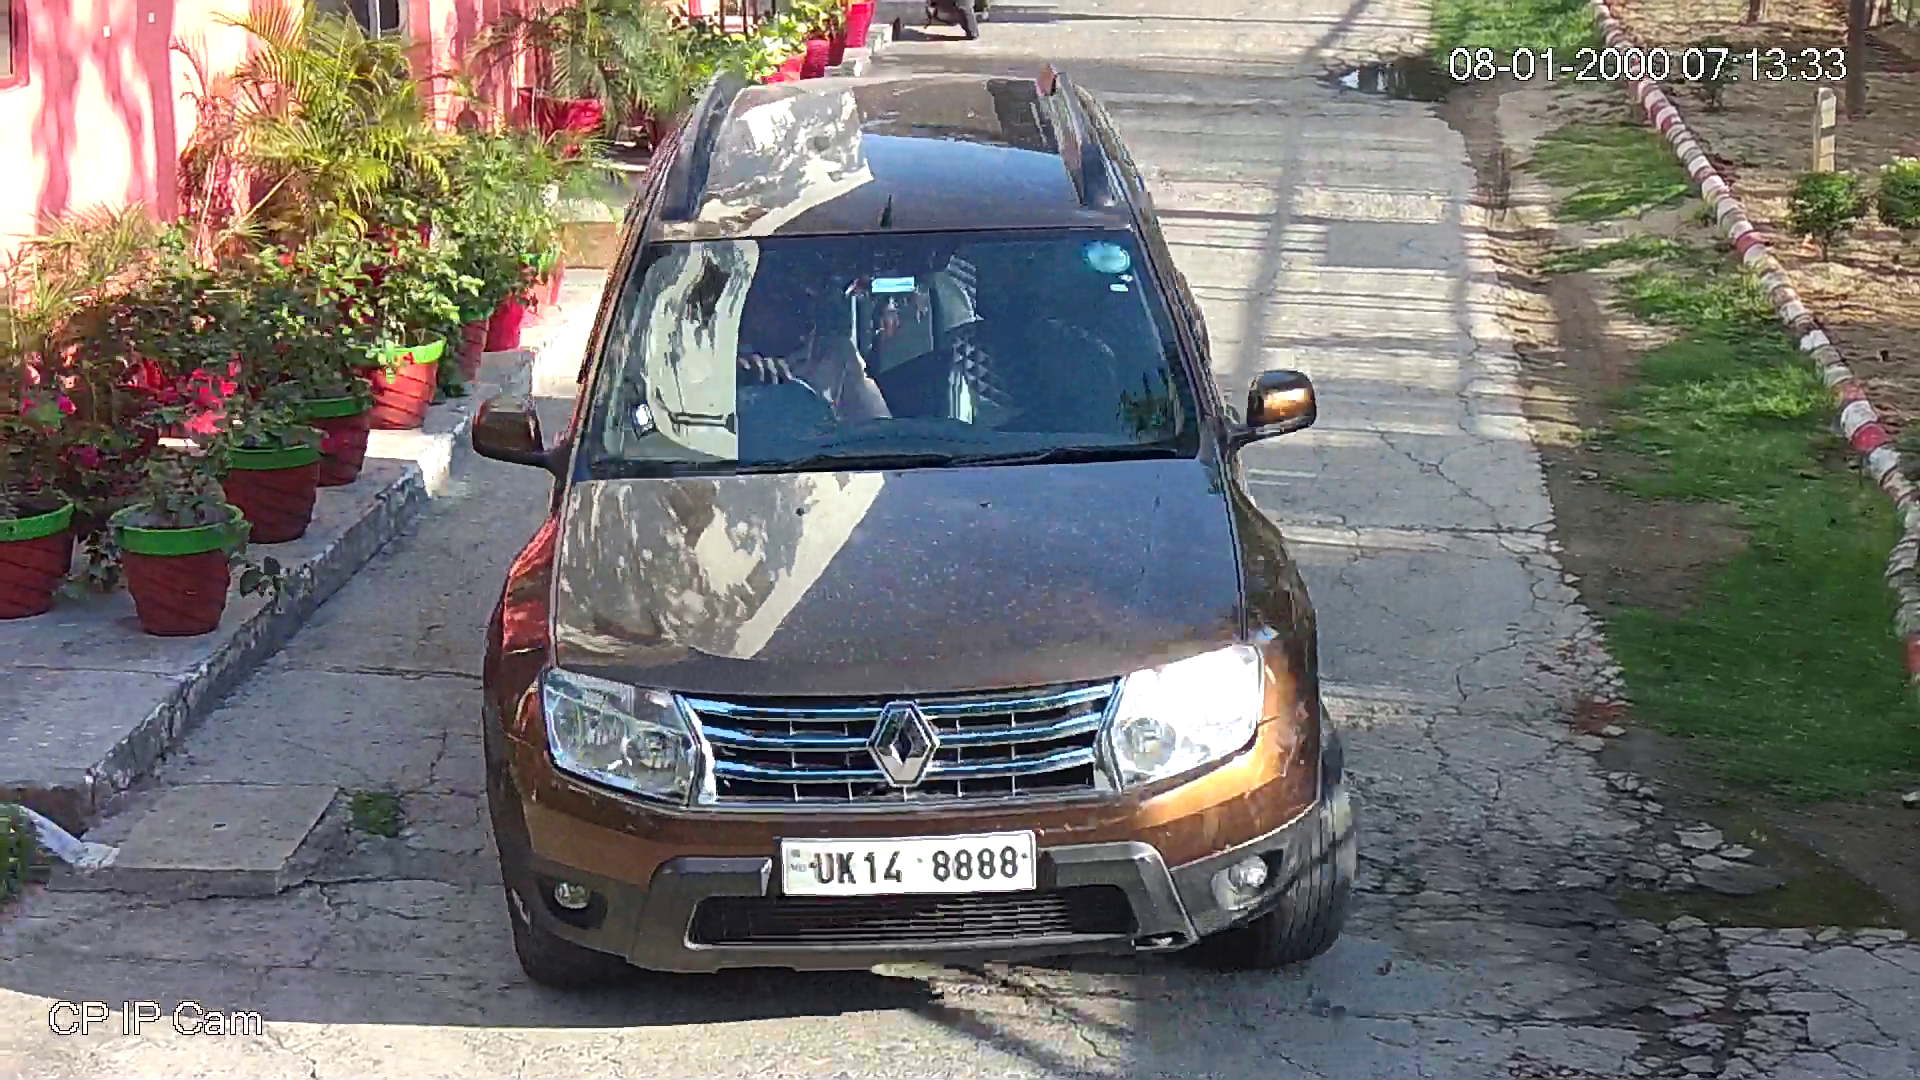plate: (771, 827, 1043, 904)
